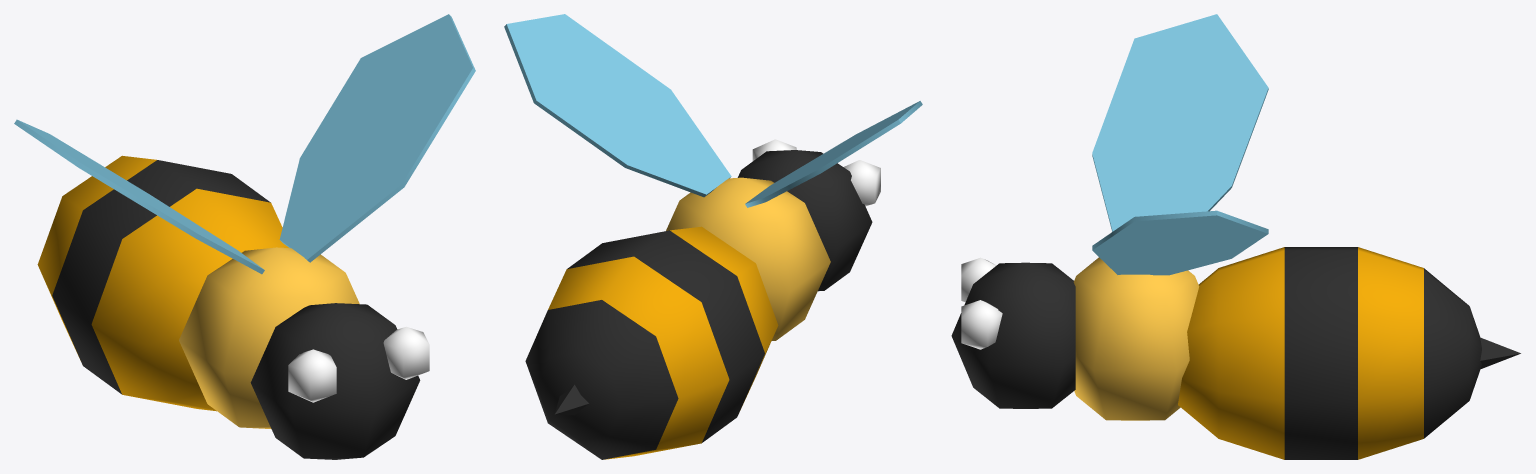
Rendered from worker_bee.fbx.
The picture shows the model from 3 angles, left to right: view 1: azimuth 30°, elevation 25°; view 2: azimuth 150°, elevation 25°; view 3: azimuth 270°, elevation 25°; orthographic projection. The views are drawn at different scales.
Parts seen in each view (by area): view 1: WorkerBee; view 2: WorkerBee; view 3: WorkerBee.
Part boxes in pixels (x1,y1,x2,y2): WorkerBee: (14, 14, 475, 459); WorkerBee: (504, 14, 922, 459); WorkerBee: (951, 14, 1520, 459).
Bounding box in the file's own units: 0.0292 × 0.0235 × 0.0353.
Materials: 1 (1 with a texture image).
